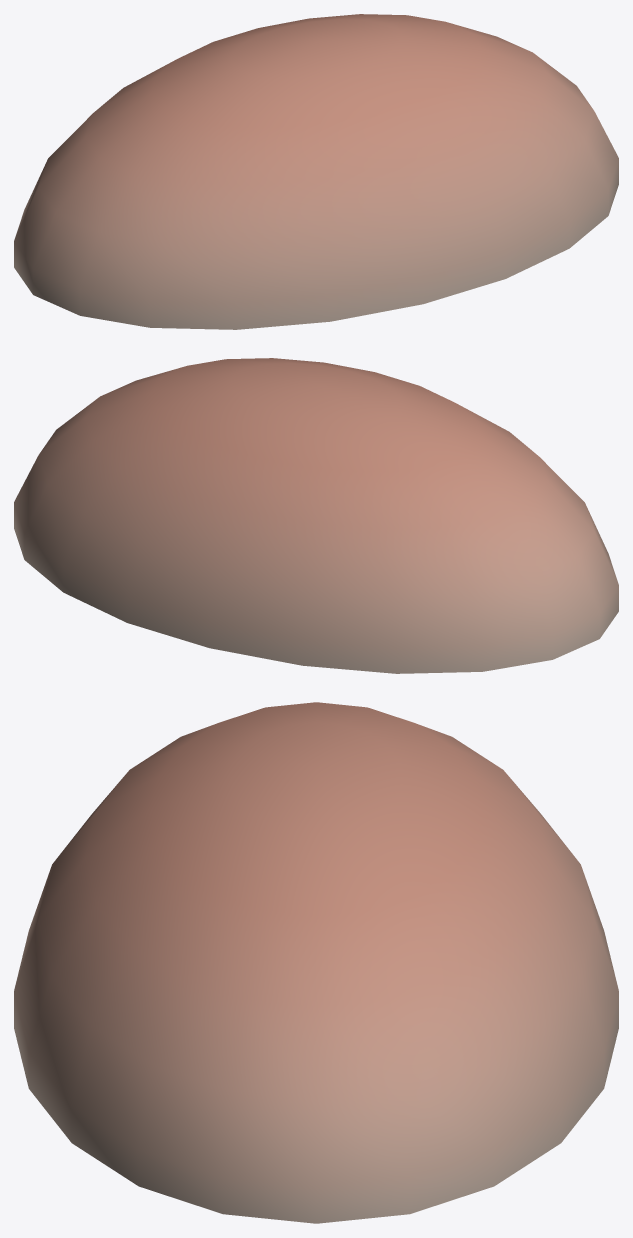
File: dimsum-hargow-s0.glb
3 renders of one model, top to bottom at view 1: azimuth 30°, elevation 25°; view 2: azimuth 150°, elevation 25°; view 3: azimuth 270°, elevation 25°, orthographic. The views are drawn at different scales.
Parts seen in each view (by area): view 1: food__food; view 2: food__food; view 3: food__food.
Boxes of the visible parts, x1,y1,x2,y2 form: food__food: (14, 14, 618, 329); food__food: (14, 358, 618, 673); food__food: (14, 702, 618, 1223).
Size of the model in its own units: 0.0515 by 0.016 by 0.0337.
